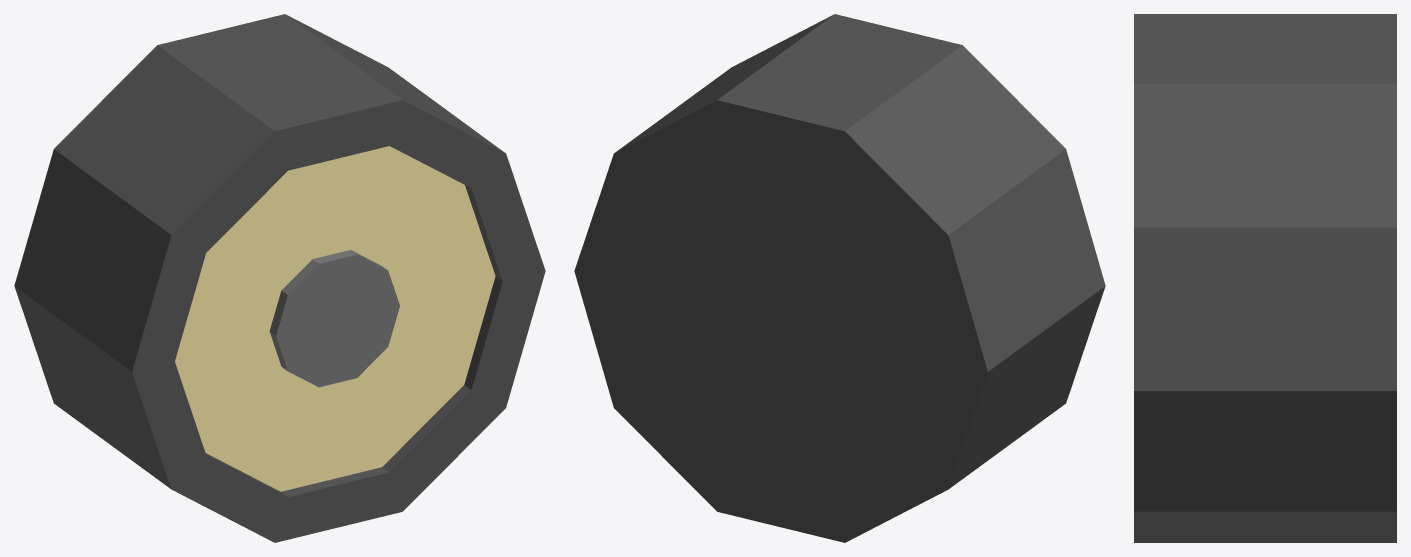
Rendered from rink.fbx.
3 views of the same model, side by side, from view 1: azimuth 30°, elevation 25°; view 2: azimuth 150°, elevation 25°; view 3: azimuth 270°, elevation 25° (orthographic). The views are drawn at different scales.
Parts seen in each view (by area): view 1: Cylinder_6_2; view 2: Cylinder_6_2; view 3: Cylinder_6_2.
Boxes of the visible parts, x1=… form: Cylinder_6_2: x1=14, y1=14, x2=545, y2=542; Cylinder_6_2: x1=574, y1=14, x2=1105, y2=542; Cylinder_6_2: x1=1134, y1=14, x2=1396, y2=542.
Size of the model in its own units: 77.2 by 73.42 by 38.05.
